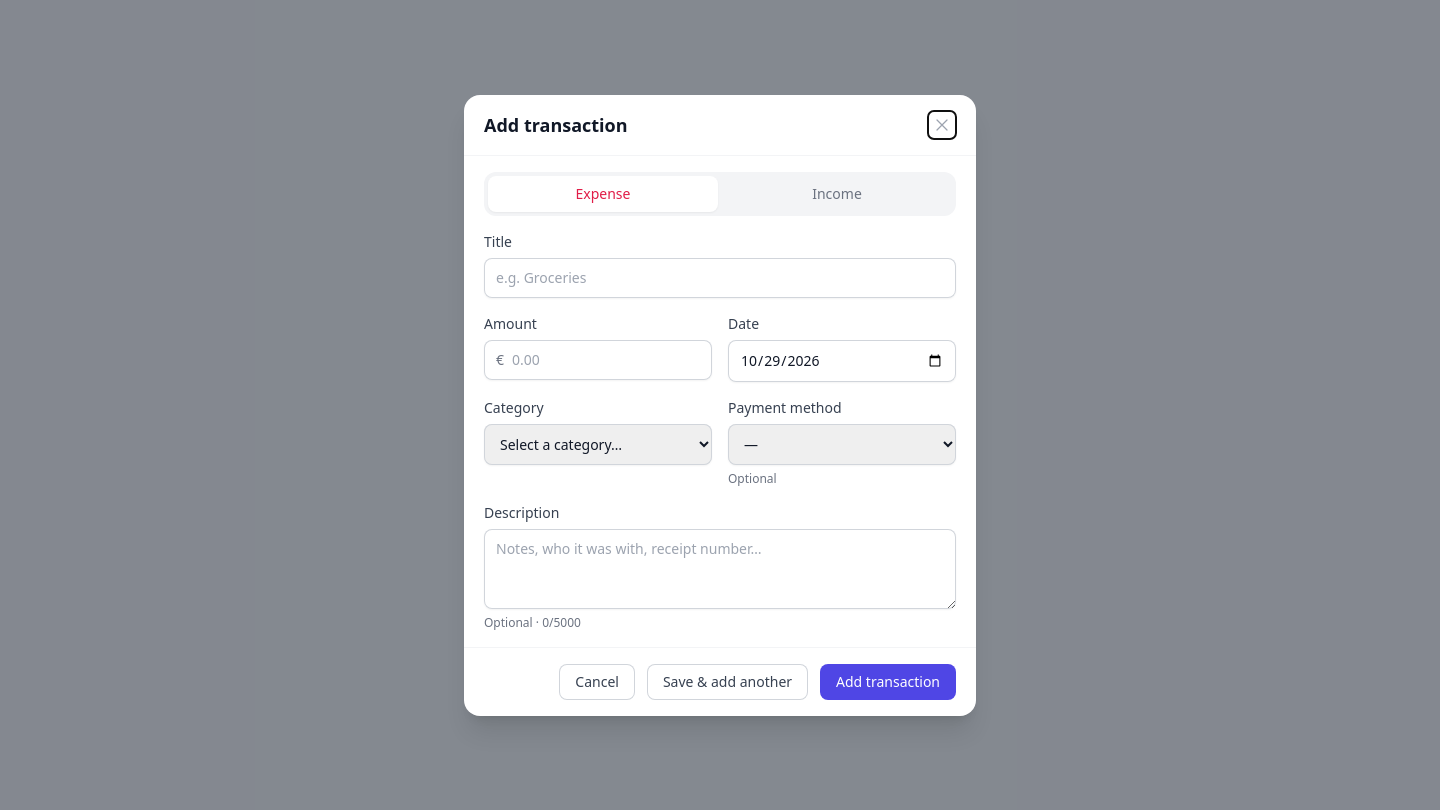
shows the currency symbol and a description counter
expect the text "€" is shown: met, box [496,350,504,370]
Type "hello" into the text box labelled "Description" at (720, 568), box [484,528,956,608]
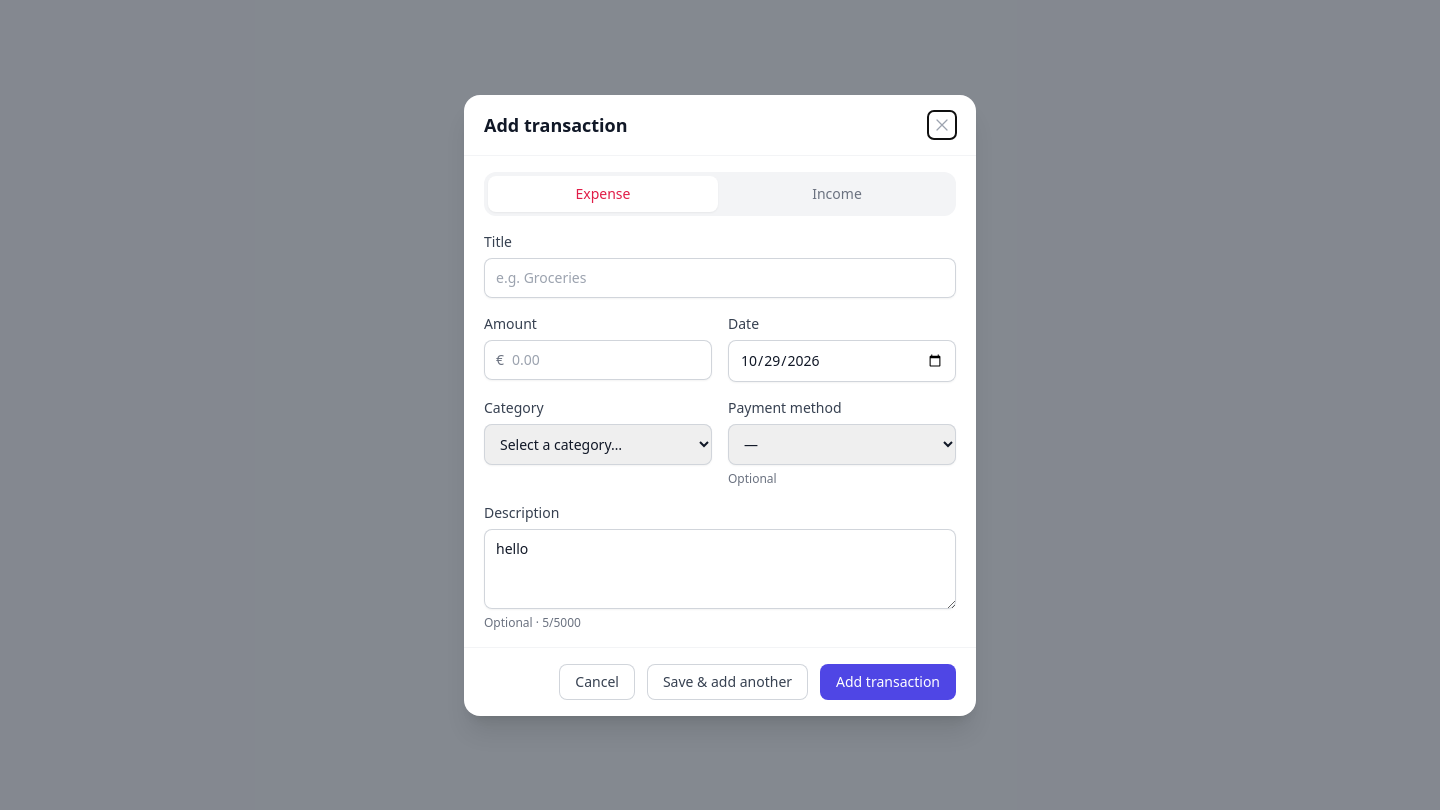
expect the text "Optional · 5/5000" is shown: met, box [484,614,581,630]
